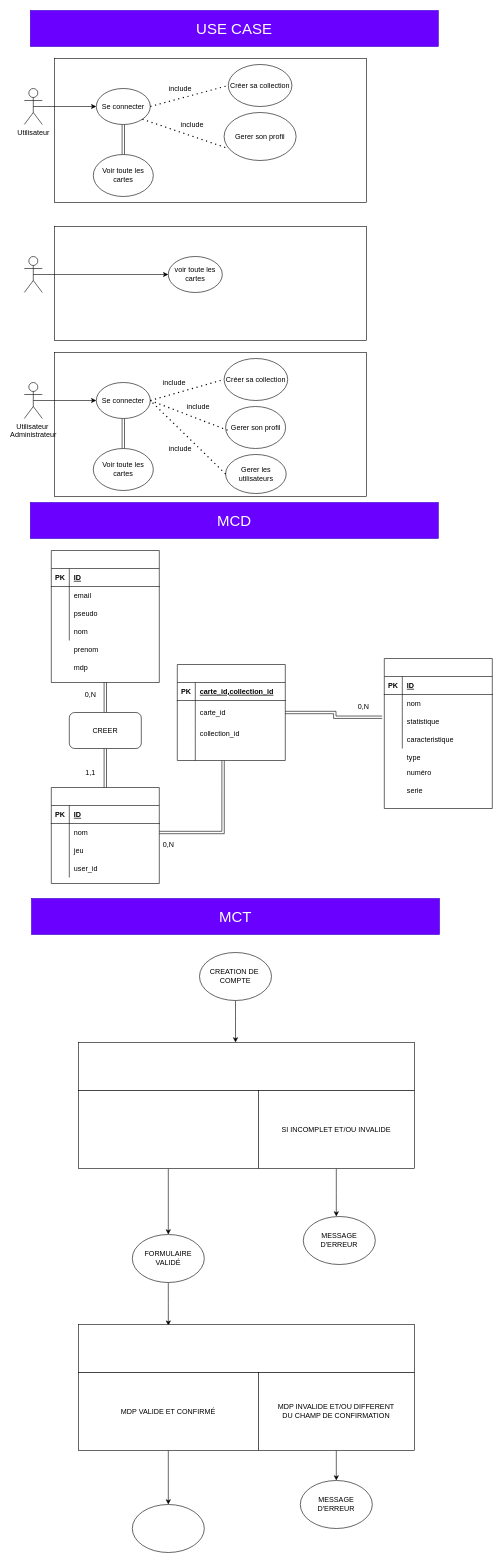
This 503x1563 diagram has some shape labels left out. The shapes that lost their labels are listed below. From the top down, each one's box as (x1, y1, x2, y2) in pixels, then its label:
(24, 256, 42, 292): Utilisateur non connecté
(51, 550, 159, 682): User
(177, 664, 285, 760): Composer
(384, 658, 492, 808): Carte
(51, 787, 159, 884): Collection
(78, 1042, 414, 1090): VERIFICATION DU FORMULAIRE
(78, 1090, 258, 1168): SI VALIDE ET COMPLET
(78, 1324, 414, 1372): VERIFICATION DU MOT DE PASSE
(132, 1504, 204, 1552): COMPTE CREE ET MDP HACHER
